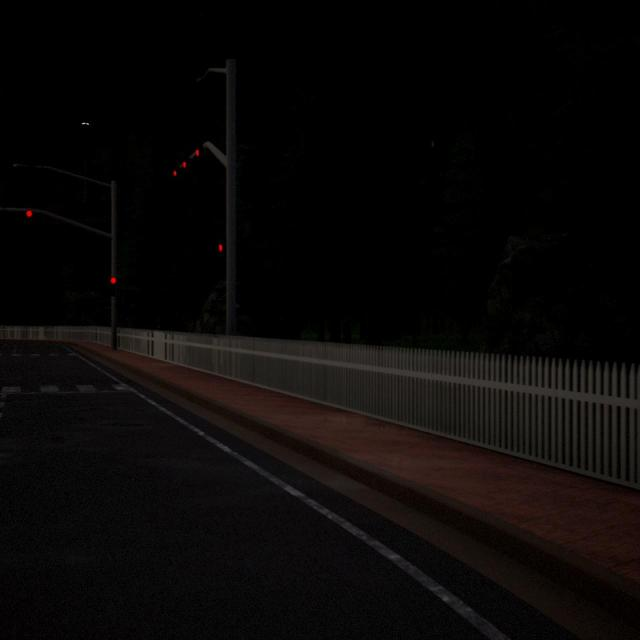traffic_light: (109, 277, 116, 295), (26, 209, 32, 218), (218, 244, 223, 252), (196, 149, 200, 157), (182, 162, 187, 168), (173, 170, 177, 177)
